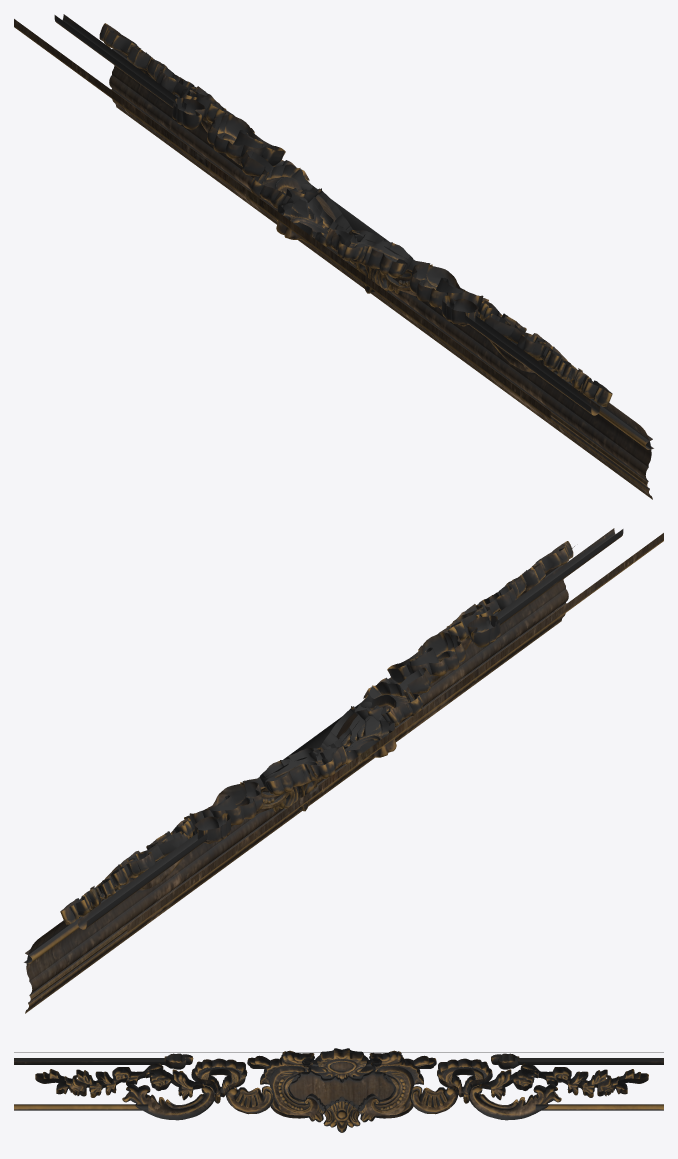
File: SM_CurveCornerUpper.fbx
3 renders of one model, top to bottom at view 1: azimuth 30°, elevation 25°; view 2: azimuth 150°, elevation 25°; view 3: azimuth 270°, elevation 25°, orthographic. The views are drawn at different scales.
Parts seen in each view (by area): view 1: SM_CurveCornerUpper_LOD0; view 2: SM_CurveCornerUpper_LOD0; view 3: SM_CurveCornerUpper_LOD0.
Boxes of the visible parts, x1,y1,x2,y2 form: SM_CurveCornerUpper_LOD0: [14, 14, 653, 499]; SM_CurveCornerUpper_LOD0: [24, 528, 663, 1013]; SM_CurveCornerUpper_LOD0: [14, 1048, 663, 1132].
Bounding box in the file's own units: 73.18 × 600 × 69.99.
Materials: 1 (1 with a texture image).
